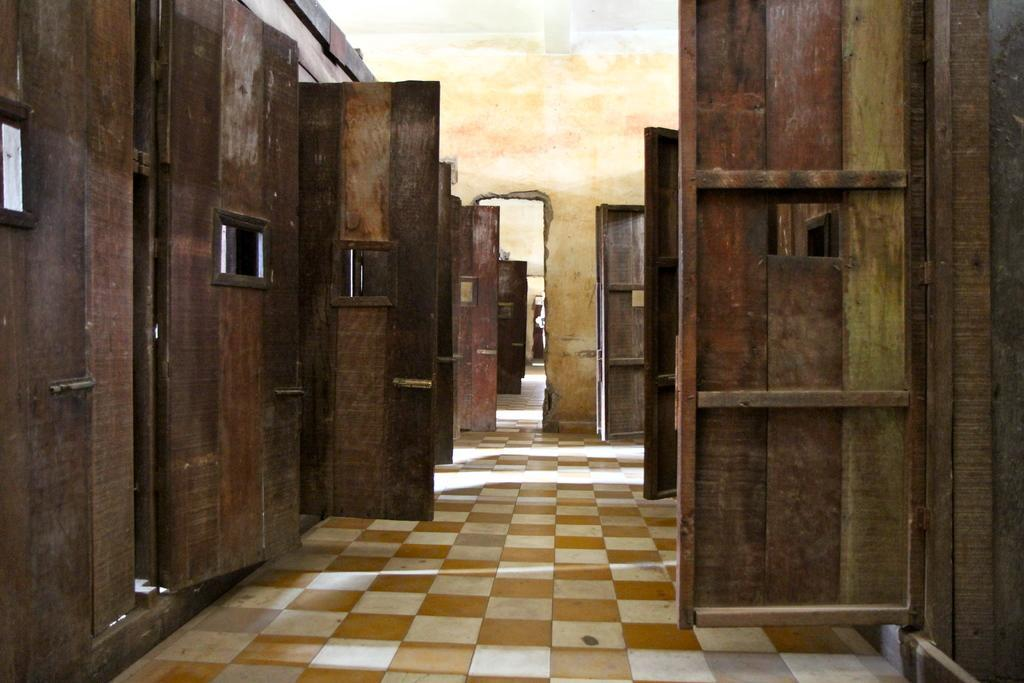door: (687, 27, 915, 616), (14, 29, 142, 616), (174, 28, 298, 554), (313, 93, 439, 507), (644, 136, 678, 491), (594, 199, 640, 440), (451, 211, 495, 424), (498, 257, 524, 393)
handle: (40, 374, 102, 402), (387, 363, 431, 398), (257, 378, 301, 402)
